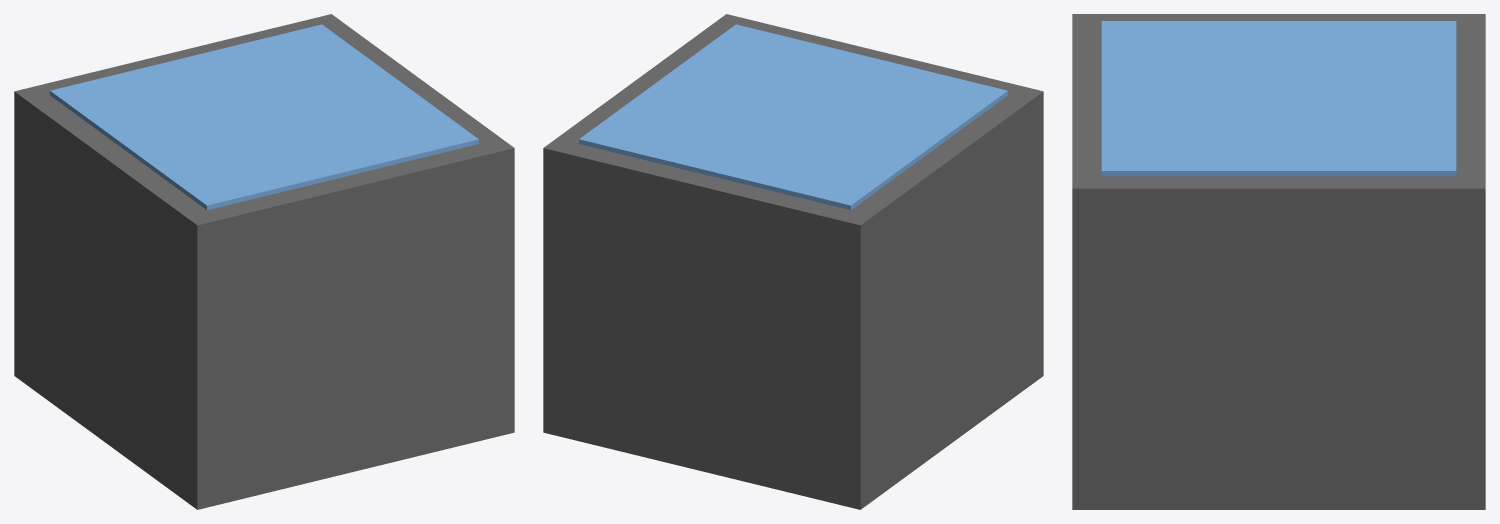
Rendered from Prop_DS_Cauldron_V3.glb.
3 renders of one model, left to right at view 1: azimuth 30°, elevation 25°; view 2: azimuth 150°, elevation 25°; view 3: azimuth 270°, elevation 25°, orthographic. The views are drawn at different scales.
Parts seen in each view (by area): view 1: Cube, Cube.001; view 2: Cube, Cube.001; view 3: Cube, Cube.001.
Part boxes in pixels (box(x1,y1,x2,y2)): Cube: box(14, 14, 514, 509); Cube.001: box(50, 24, 478, 210); Cube: box(543, 14, 1043, 509); Cube.001: box(579, 24, 1007, 210); Cube: box(1072, 14, 1485, 509); Cube.001: box(1101, 21, 1456, 176).
Size of the model in its own units: 0.7 by 0.61 by 0.7.
